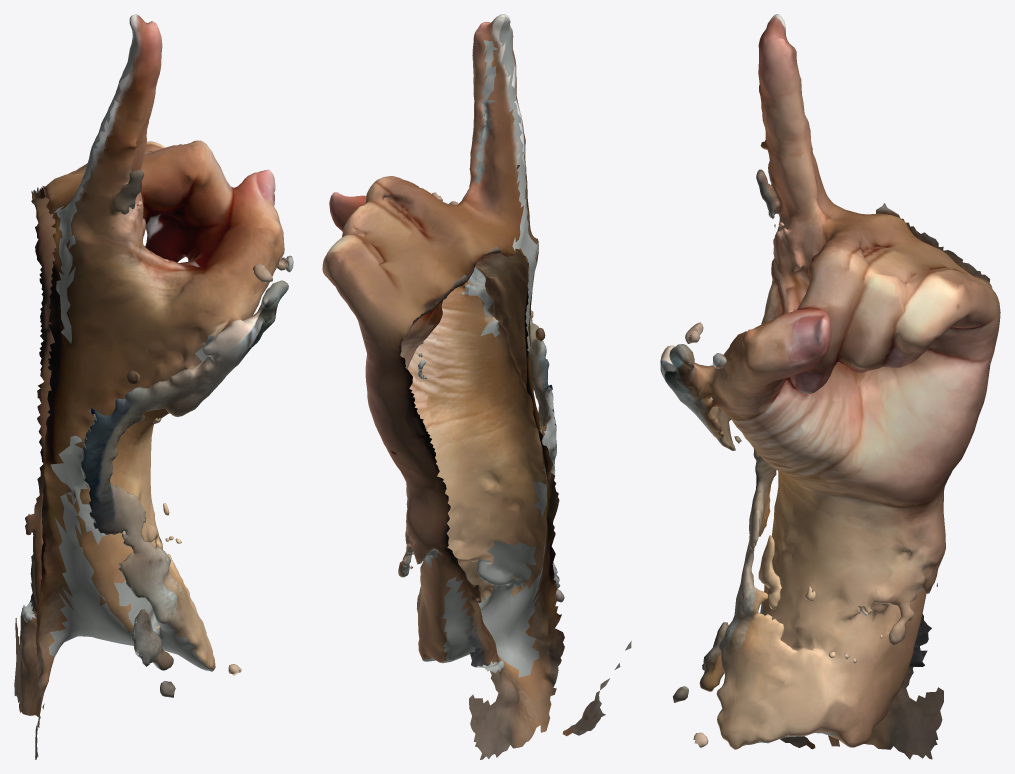
3 views of the same model, side by side, from view 1: azimuth 30°, elevation 25°; view 2: azimuth 150°, elevation 25°; view 3: azimuth 270°, elevation 25° (orthographic). The views are drawn at different scales.
Parts seen in each view (by area): view 1: Object_3, Object_2, Object_4; view 2: Object_2, Object_3, Object_4; view 3: Object_2, Object_3, Object_4.
Part boxes in pixels (x1,y1,x2,y2): Object_3: (14, 15, 288, 712); Object_2: (15, 105, 287, 759); Object_4: (21, 14, 293, 716); Object_2: (322, 101, 620, 735); Object_3: (322, 16, 631, 759); Object_4: (349, 14, 564, 741); Object_2: (673, 46, 1000, 749); Object_3: (660, 14, 1000, 759); Object_4: (665, 14, 937, 749).
Bounding box in the file's own units: 2.27 × 5.77 × 2.28.
4 materials, 4 textured.
